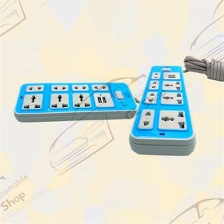three_eye_plug: (125, 63, 199, 158), (10, 80, 139, 124)
